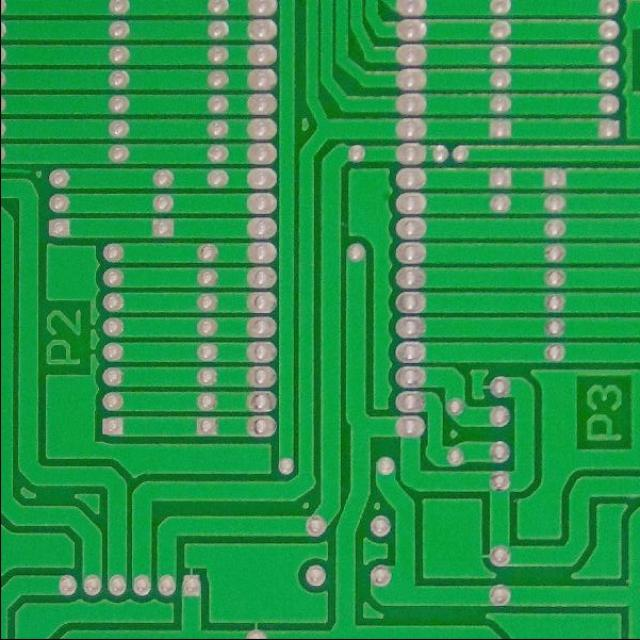Spurious_Cooper: (0, 164, 33, 176)
